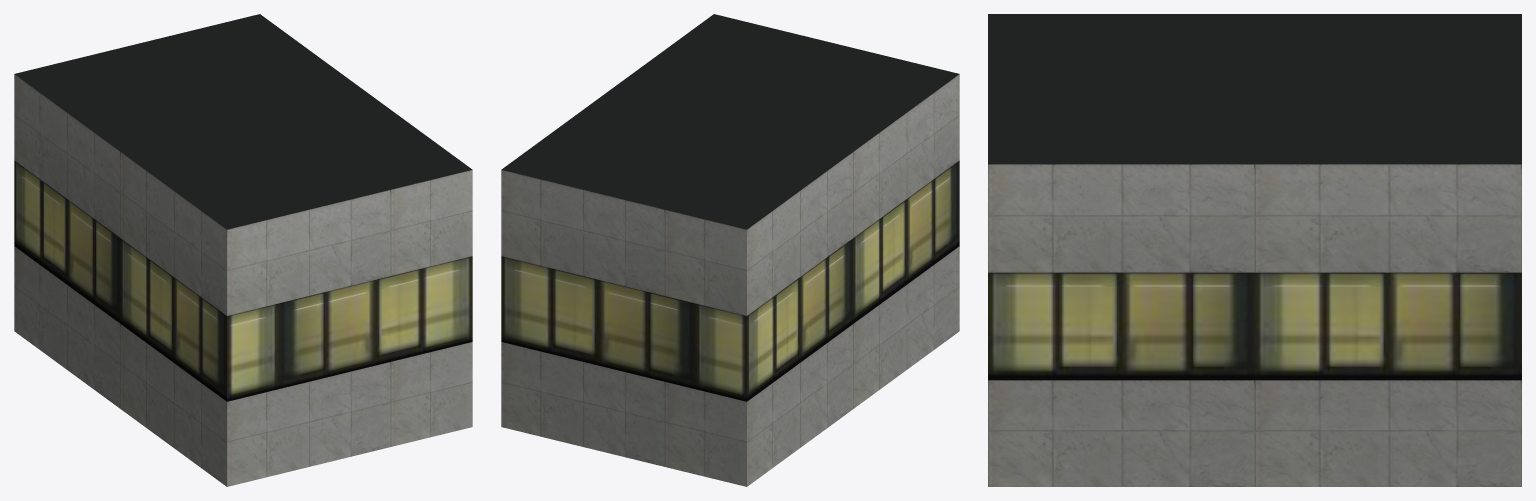
The model's file is AMB_MACHI.glb.
The picture shows the model from 3 angles, left to right: view 1: azimuth 30°, elevation 25°; view 2: azimuth 150°, elevation 25°; view 3: azimuth 270°, elevation 25°; orthographic projection. The views are drawn at different scales.
Visible parts, largest first — view 1: BASE; view 2: BASE; view 3: BASE.
Part boxes in pixels (x1=…): BASE: x1=14, y1=14, x2=472, y2=486; BASE: x1=501, y1=14, x2=959, y2=486; BASE: x1=988, y1=14, x2=1521, y2=486.
Size of the model in its own units: 7.5 by 7.5 by 11.25.
Materials: 3 (3 with a texture image).
